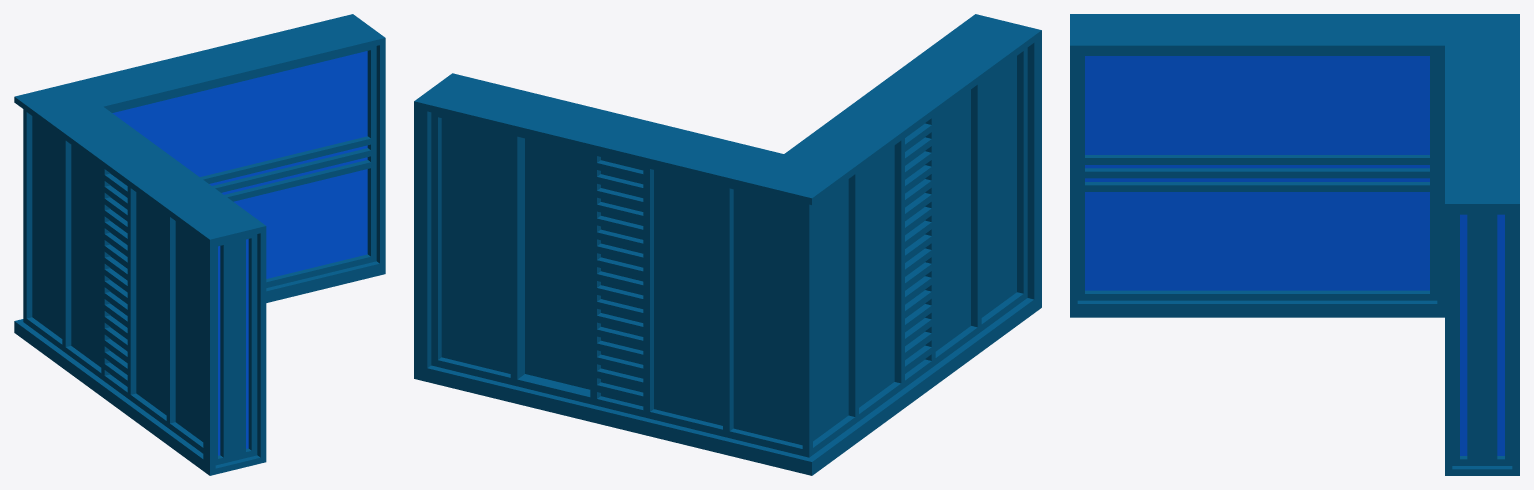
The model's file is Blue Corner.obj.
The picture shows the model from 3 angles, left to right: view 1: azimuth 30°, elevation 25°; view 2: azimuth 150°, elevation 25°; view 3: azimuth 270°, elevation 25°; orthographic projection. The views are drawn at different scales.
Bounding box in the file's own units: 60 × 40 × 60.
1 material, 1 textured.
